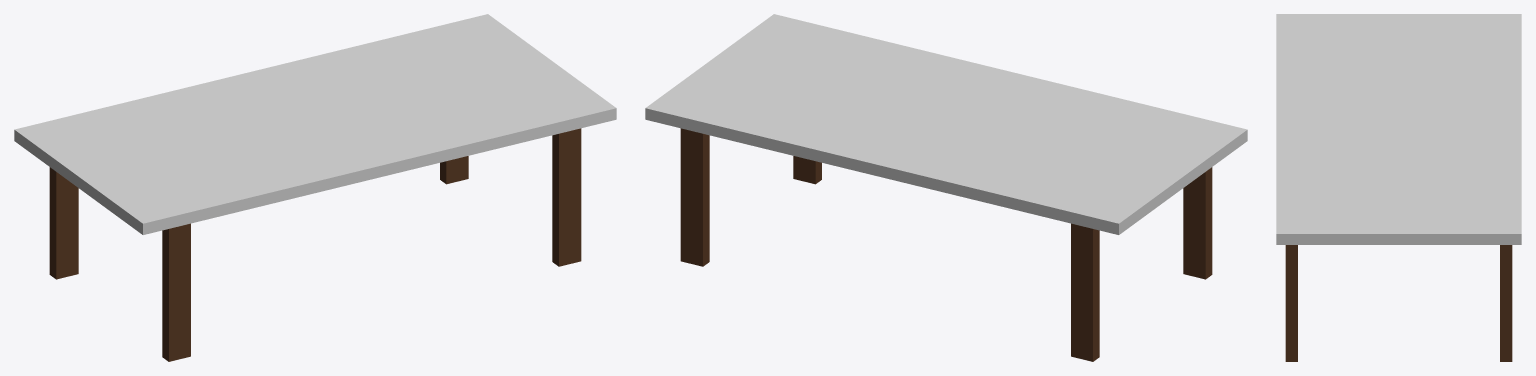
The model's file is mesa_larga.glb.
3 views of the same model, side by side, from view 1: azimuth 30°, elevation 25°; view 2: azimuth 150°, elevation 25°; view 3: azimuth 270°, elevation 25° (orthographic). The views are drawn at different scales.
Parts seen in each view (by area): view 1: mesa_larga; view 2: mesa_larga; view 3: mesa_larga.
Boxes of the visible parts, box(x1,y1,x2,y2) form: mesa_larga: box(14, 14, 616, 361); mesa_larga: box(645, 14, 1247, 361); mesa_larga: box(1276, 14, 1521, 361).
Bounding box in the file's own units: 2.59 × 0.78 × 1.22.
